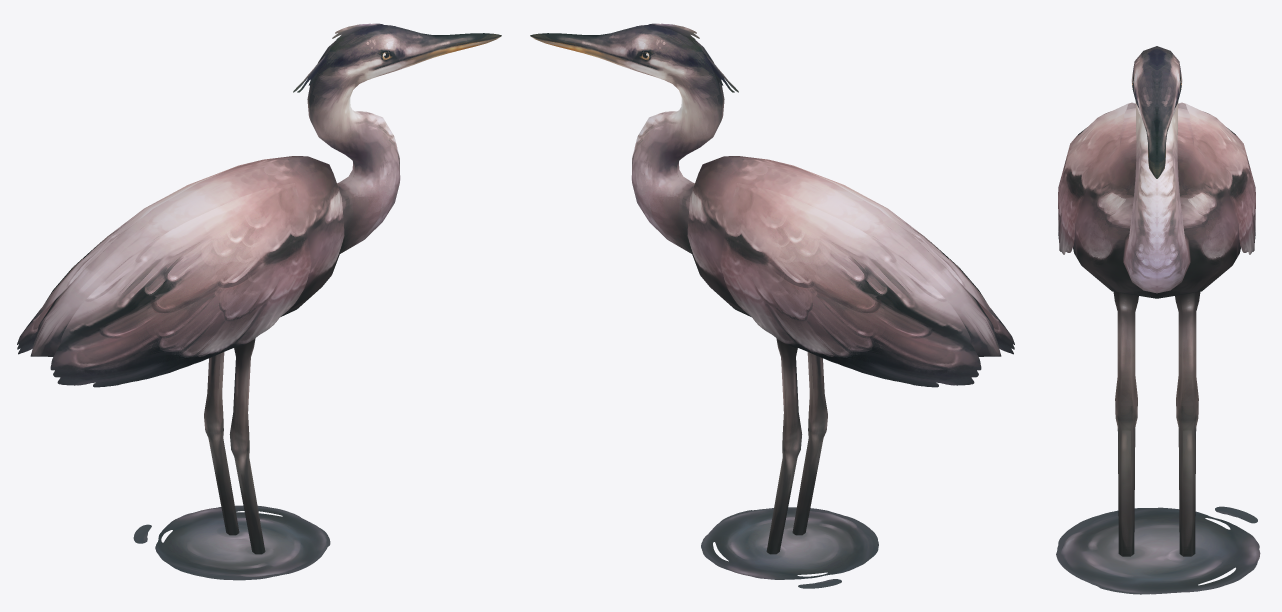
The model's file is dove_bird_rigged.glb.
3 views of the same model, side by side, from view 1: azimuth 30°, elevation 25°; view 2: azimuth 150°, elevation 25°; view 3: azimuth 270°, elevation 25° (orthographic). The views are drawn at different scales.
Parts seen in each view (by area): view 1: Cube, Cube.001; view 2: Cube, Cube.001; view 3: Cube, Cube.001.
Part boxes in pixels (x1=…): Cube: x1=17, y1=23, x2=501, y2=554; Cube.001: x1=133, y1=505, x2=330, y2=580; Cube: x1=530, y1=23, x2=1014, y2=554; Cube.001: x1=701, y1=507, x2=878, y2=588; Cube: x1=1058, y1=46, x2=1255, y2=556; Cube.001: x1=1056, y1=506, x2=1260, y2=594.
Size of the model in its own units: 6.17 by 6.24 by 2.13.
Materials: 1 (1 with a texture image).
